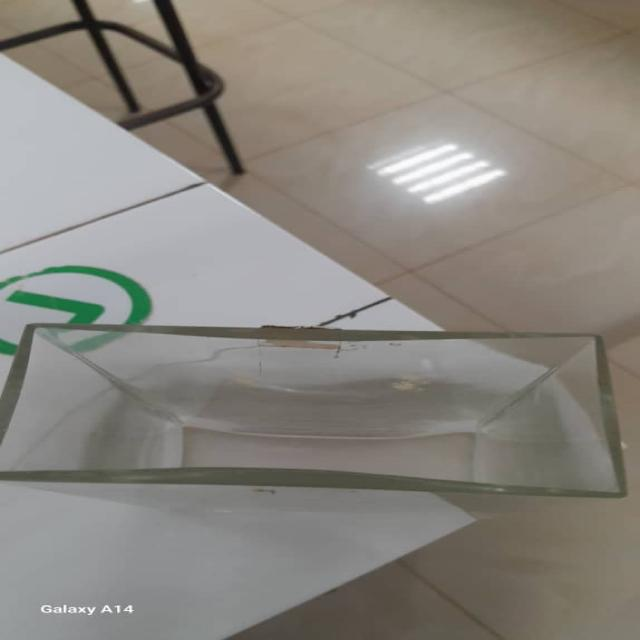TLC Tank: (2, 318, 640, 512)
